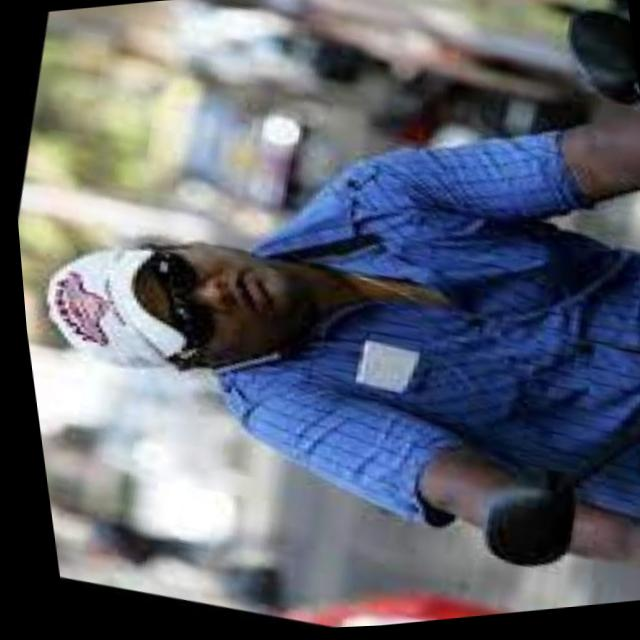USING_MOBILE: (13, 192, 325, 425)
